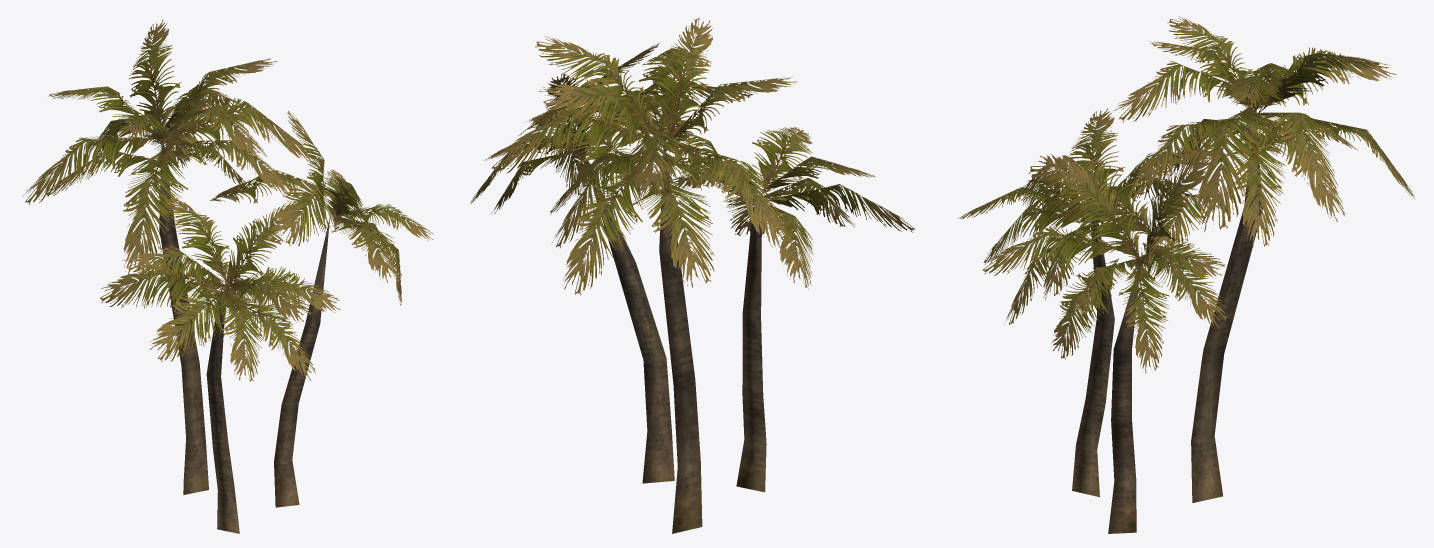
Rendered from Gobi_Tree03.FBX.
3 renders of one model, left to right at view 1: azimuth 30°, elevation 25°; view 2: azimuth 150°, elevation 25°; view 3: azimuth 270°, elevation 25°, orthographic. The views are drawn at different scales.
Visible parts, largest first — view 1: Gobi_Tree03; view 2: Gobi_Tree03; view 3: Gobi_Tree03.
Part boxes in pixels (bbox=[...]): Gobi_Tree03: bbox=[22, 19, 433, 533]; Gobi_Tree03: bbox=[470, 18, 914, 533]; Gobi_Tree03: bbox=[957, 16, 1414, 533].
Size of the model in its own units: 631 by 744 by 676.
